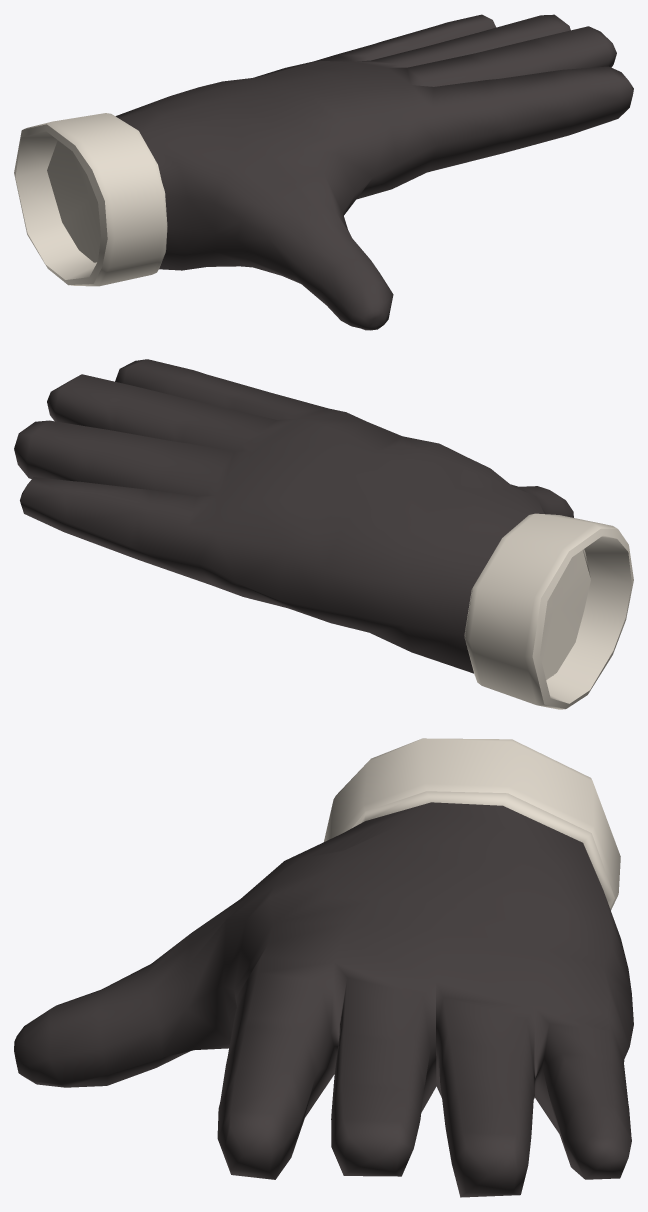
The model's file is Left_Arm_02_01.fbx.
3 views of the same model, one above another, from view 1: azimuth 30°, elevation 25°; view 2: azimuth 150°, elevation 25°; view 3: azimuth 270°, elevation 25° (orthographic). The views are drawn at different scales.
Visible parts, largest first — view 1: Left_Arm_02_01; view 2: Left_Arm_02_01; view 3: Left_Arm_02_01.
Boxes of the visible parts, box(x1,y1,x2,y2) form: Left_Arm_02_01: box(14, 14, 633, 330); Left_Arm_02_01: box(14, 359, 633, 709); Left_Arm_02_01: box(14, 738, 633, 1197).
Size of the model in its own units: 25.38 by 7.23 by 16.72.
